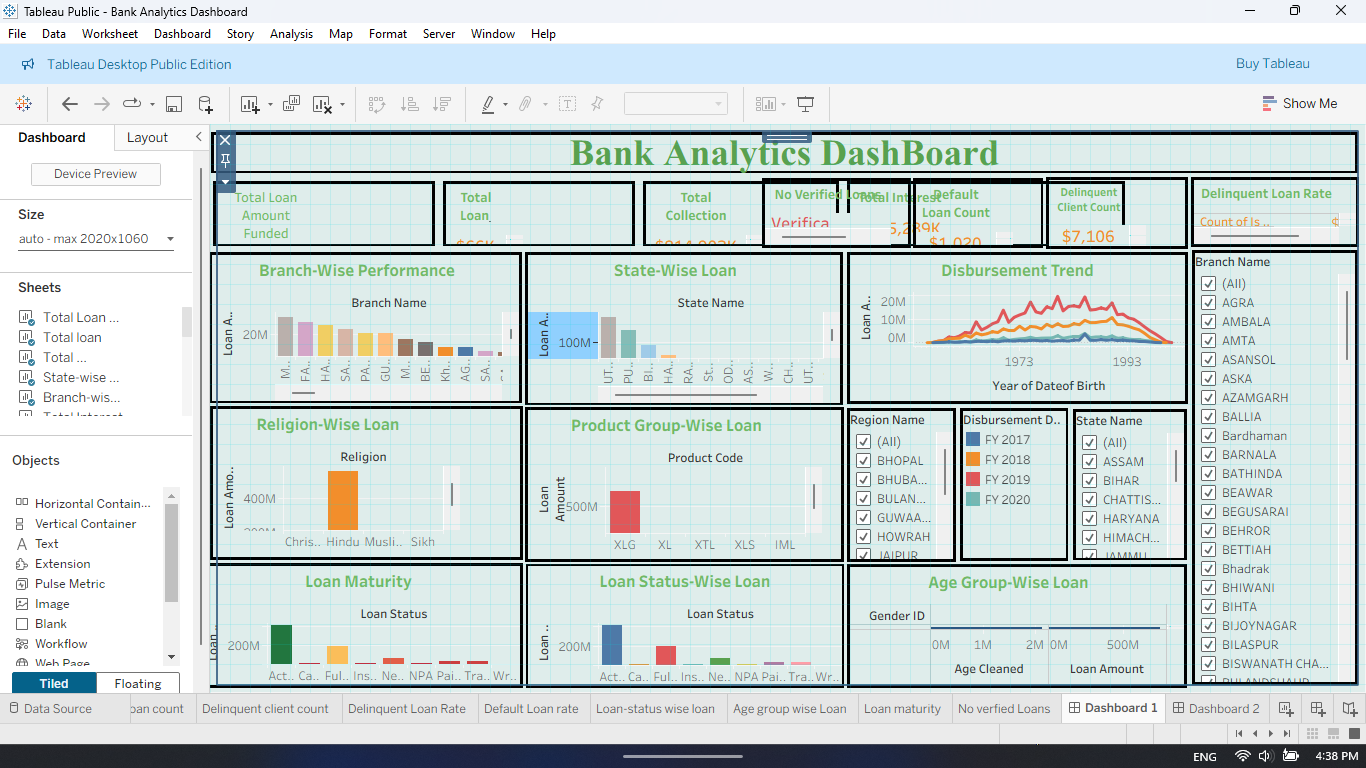

This screenshot's page, from the dashboard's own definition file:
{"tool":"tableau","page":{"name":"Dashboard 1","canvas":[1000,1000],"units":"permille","ordinal":0},"visuals":[{"type":"text","box":[0.5,13.2,993.2,73.6]},{"type":"worksheet","title":"Total loan","mark":"Automatic","box":[119.3,92.5,104.2,130.2]},{"type":"worksheet","title":"Total Collection","mark":"Automatic","box":[223.5,92.5,106.2,130.2]},{"type":"worksheet","title":"Total Interest","mark":"Automatic","box":[329.7,92.5,149,130.2]},{"type":"worksheet","title":"Delinquent client count","mark":"Automatic","box":[723.4,93.4,122.9,127.4]},{"type":"worksheet","title":"Delinquent Loan Rate","mark":"Automatic","box":[849,93.4,145.8,123.6]},{"type":"worksheet","title":"Default Loan count","mark":"Automatic","box":[608.3,94.3,113,123.6]},{"type":"worksheet","title":"No verfied Loans","mark":"Automatic","rows":["Verification_Status"],"box":[478.1,95.3,128.7,123.6]},{"type":"filter","title":"Branch-wise Performance","param":"[federated.1eop1gf074zi3518x59b50m60uka].[none:Branch_Name:nk]","box":[850.5,222.6,143.8,765.1]},{"type":"worksheet","title":"State-wise Loan","mark":"Automatic","rows":["Loan_Amount"],"cols":["State_Name"],"box":[272.9,224.5,275.5,270.8]},{"type":"worksheet","title":"Disbursement Trend","mark":"Automatic","rows":["Loan_Amount"],"cols":["Dateof_Birth"],"box":[551.6,224.5,295.3,267.9]},{"type":"worksheet","title":"Religion-wise Loan","mark":"Automatic","rows":["Loan_Amount"],"cols":["Religion"],"box":[0,497.2,270.8,271.7]},{"type":"worksheet","title":"Product group-wise Loan","mark":"Automatic","rows":["Loan_Amount"],"cols":["Product_Code"],"box":[272.9,499.1,276,272.6]},{"type":"filter","title":"Religion-wise Loan","param":"[federated.1eop1gf074zi3518x59b50m60uka].[none:Region_Name:nk]","box":[551.6,500,94.3,271.7]},{"type":"legend","title":"Disbursement Trend","param":"[federated.1eop1gf074zi3518x59b50m60uka].[none:Disbursement_Date_(Years):nk]","box":[649,500,94.3,268.9]},{"type":"filter","title":"State-wise Loan","param":"[federated.1eop1gf074zi3518x59b50m60uka].[none:State_Name:nk]","box":[747.4,500.9,99,267]},{"type":"worksheet","title":"Loan-status wise loan","mark":"Automatic","rows":["Loan_Amount"],"cols":["Loan_Status"],"box":[274,775.5,275,218.9]},{"type":"worksheet","title":"Age group wise Loan","mark":"Automatic","rows":["Gender_ID"],"cols":["Age_Cleaned","Loan_Amount"],"box":[551.6,775.5,294.8,217.9]}]}

Visuals, with their boxes on the dashboard's canvas, which has no fixed pixel size, in thousandths of its width and height (x1, y1, x2, y2). These are canvas units, not pixel positions in the 1366x768 screenshot, which may show the page scaled, cropped or inside an application window:
text: detection(0, 13, 994, 87)
"Total loan" worksheet: detection(119, 92, 224, 223)
"Total Collection" worksheet: detection(224, 92, 330, 223)
"Total Interest" worksheet: detection(330, 92, 479, 223)
"Delinquent client count" worksheet: detection(723, 93, 846, 221)
"Delinquent Loan Rate" worksheet: detection(849, 93, 995, 217)
"Default Loan count" worksheet: detection(608, 94, 721, 218)
"No verfied Loans" worksheet: detection(478, 95, 607, 219)
"Branch-wise Performance" filter: detection(850, 223, 994, 988)
"State-wise Loan" worksheet: detection(273, 224, 548, 495)
"Disbursement Trend" worksheet: detection(552, 224, 847, 492)
"Religion-wise Loan" worksheet: detection(0, 497, 271, 769)
"Product group-wise Loan" worksheet: detection(273, 499, 549, 772)
"Religion-wise Loan" filter: detection(552, 500, 646, 772)
"Disbursement Trend" legend: detection(649, 500, 743, 769)
"State-wise Loan" filter: detection(747, 501, 846, 768)
"Loan-status wise loan" worksheet: detection(274, 776, 549, 994)
"Age group wise Loan" worksheet: detection(552, 776, 846, 993)
